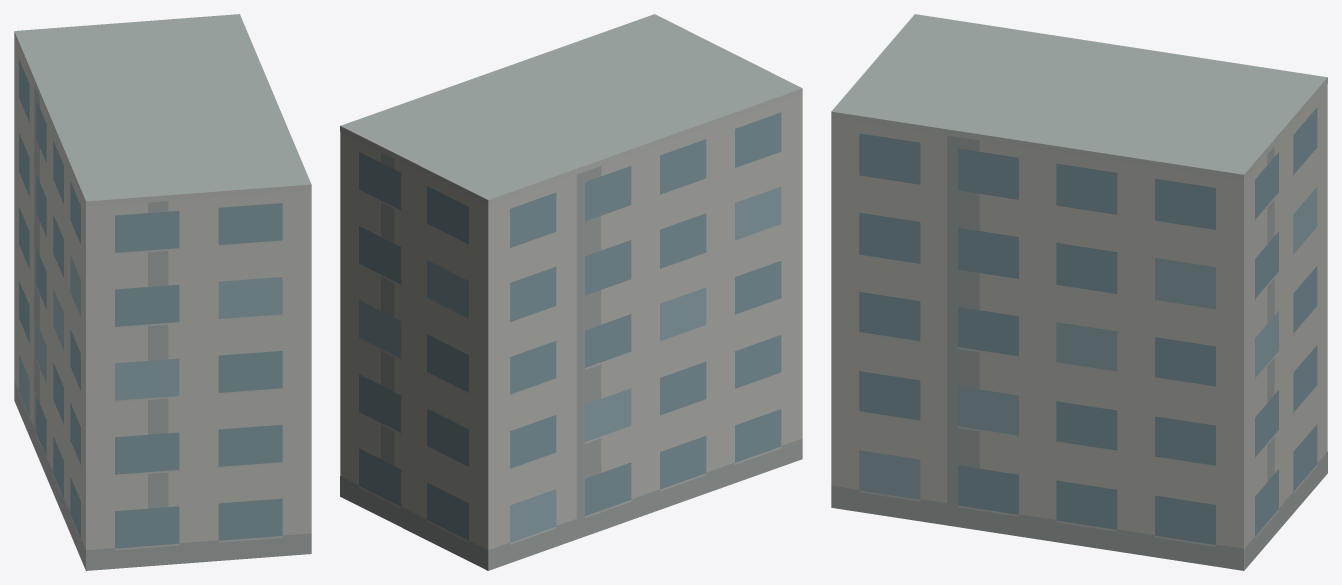
The model's file is residential-b89dd5e3-23ec-487d-a59a-ace5388e8248.glb.
The picture shows the model from 3 angles, left to right: view 1: azimuth 30°, elevation 25°; view 2: azimuth 150°, elevation 25°; view 3: azimuth 270°, elevation 25°; orthographic projection. The views are drawn at different scales.
Visible parts, largest first — view 1: residential-b89dd5e3-23ec-487d-a59a-ace5388e8248.tmp; view 2: residential-b89dd5e3-23ec-487d-a59a-ace5388e8248.tmp; view 3: residential-b89dd5e3-23ec-487d-a59a-ace5388e8248.tmp.
Boxes of the visible parts, x1=… form: residential-b89dd5e3-23ec-487d-a59a-ace5388e8248.tmp: x1=14, y1=14, x2=311, y2=570; residential-b89dd5e3-23ec-487d-a59a-ace5388e8248.tmp: x1=340, y1=14, x2=802, y2=570; residential-b89dd5e3-23ec-487d-a59a-ace5388e8248.tmp: x1=831, y1=14, x2=1327, y2=570.
Bounding box in the file's own units: 13.28 × 15.25 × 17.33.
